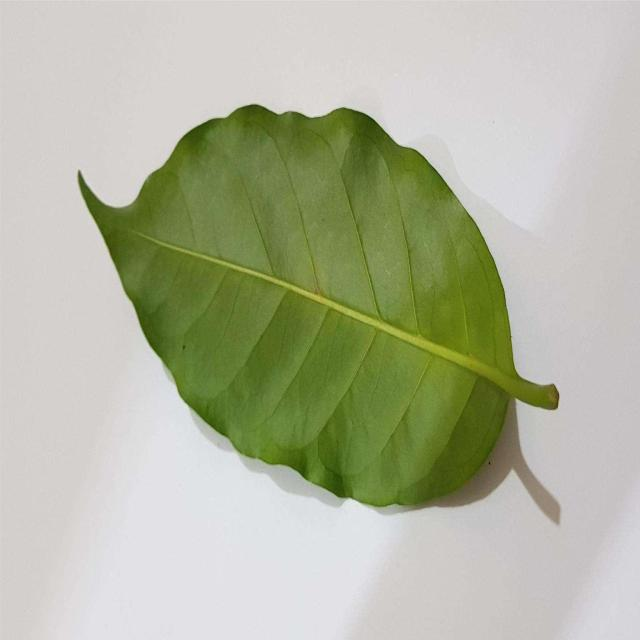nodisease: (78, 105, 559, 507)
